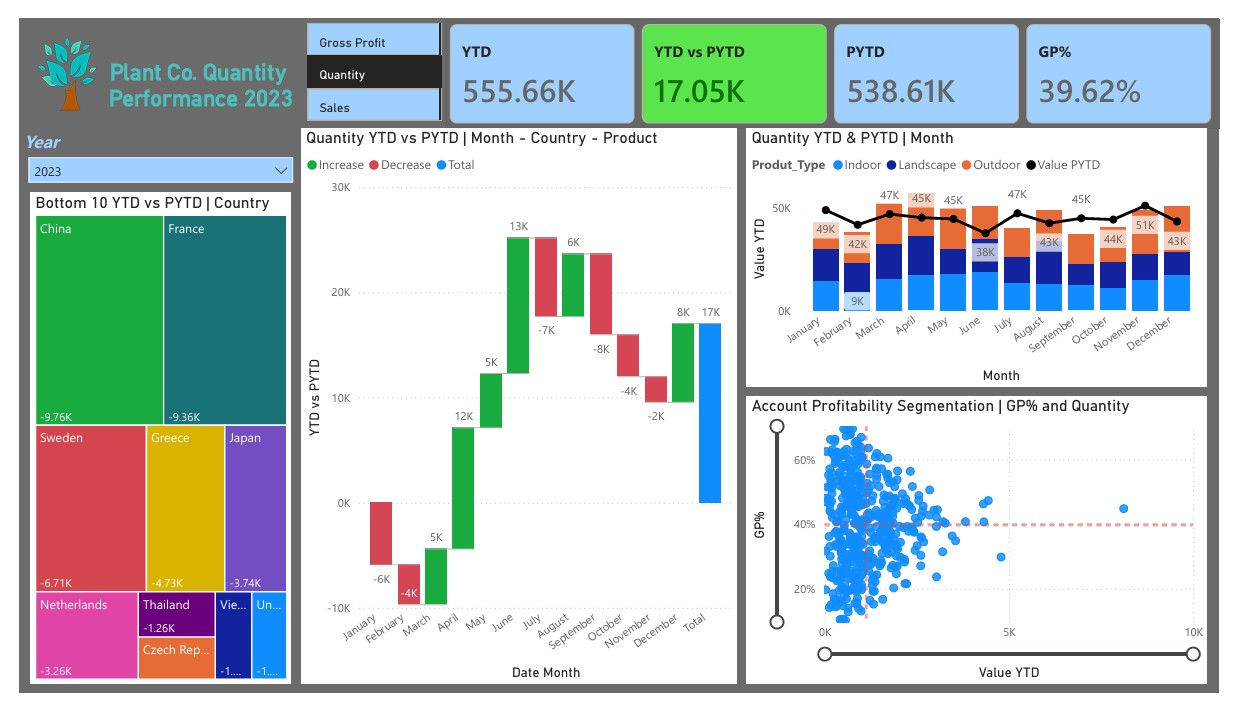

This screenshot's page, from the dashboard's own definition file:
{"tool":"powerbi","page":{"name":"Page 1","canvas":[1280,720],"ordinal":0},"visuals":[{"type":"cardVisual","fields":{"Data":["_Measures.S_YTD","_Measures.YTD vs PYTD","_Measures.S_PYTD","_Measures.GP%"]},"box":[454.5,1.4,825.3,116.9],"z":0},{"type":"advancedSlicerVisual","fields":{"Values":["slc_values.Values"]},"box":[301.7,0,153.3,116.7],"z":1000},{"type":"slicer","title":"Year","fields":{"Values":["Dim_Date.Date.Variation.Date Hierarchy.Year"]},"box":[0,118.3,301.5,67.8],"z":2000},{"type":"treemap","title":"Bottom 10 YTD vs PYTD | Country","fields":{"Group":["Dim_Accounts.country"],"Values":["_Measures.YTD vs PYTD"]},"box":[11.5,186.1,278.5,523.7],"z":3000},{"type":"waterfallChart","fields":{"Y":["_Measures.YTD vs PYTD"],"Category":["Dim_Date.Date.Variation.Date Hierarchy.Month","Dim_Accounts.country","Dim_Product.Produt_Type","Dim_Product.Product_Name"]},"box":[301.4,117.1,464.3,592.9],"z":4000},{"type":"lineStackedColumnComboChart","fields":{"Y":["_Measures.S_YTD"],"Y2":["_Measures.S_PYTD"],"Category":["Dim_Date.Date.Variation.Date Hierarchy.Quarter","Dim_Date.Date.Variation.Date Hierarchy.Month"],"Series":["Dim_Product.Produt_Type"]},"box":[775.7,117.1,491.4,275.7],"z":5000},{"type":"scatterChart","fields":{"Y":["_Measures.GP%"],"X":["_Measures.S_YTD"],"Category":["Dim_Accounts.Account"]},"box":[775.7,402.9,491.4,307.1],"z":6000},{"type":"card","fields":{"Values":["_Measures._Report title"]},"box":[85,1.7,216.7,136.7],"z":7000},{"type":"image","box":[0,15,101.7,88.3],"z":8000}]}

Visuals, with their boxes in screenshot pixels (x1, y1, x2, y2), scaled from the page's 1280x720 canvas onto the 1237x712 screenshot:
cardVisual - _Measures.S_YTD x _Measures.YTD vs PYTD: <bbox>439, 1, 1236, 117</bbox>
advancedSlicerVisual - slc_values.Values: <bbox>292, 0, 440, 115</bbox>
"Year" slicer: <bbox>0, 117, 291, 184</bbox>
"Bottom 10 YTD vs PYTD | Country" treemap: <bbox>11, 184, 280, 702</bbox>
waterfallChart - _Measures.YTD vs PYTD x Dim_Date.Date.Variation.Date Hierarchy.Month: <bbox>291, 116, 740, 702</bbox>
lineStackedColumnComboChart - _Measures.S_YTD x _Measures.S_PYTD: <bbox>750, 116, 1225, 388</bbox>
scatterChart - _Measures.GP% x _Measures.S_YTD: <bbox>750, 398, 1225, 702</bbox>
card - _Measures._Report title: <bbox>82, 2, 292, 137</bbox>
image: <bbox>0, 15, 98, 102</bbox>
